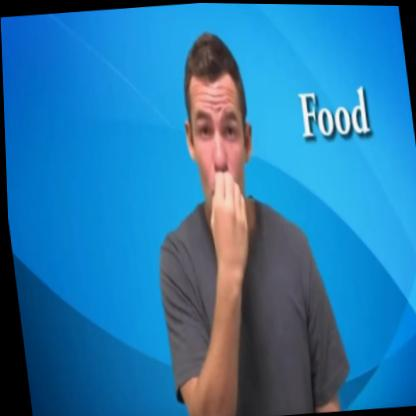Food: (162, 24, 280, 293)
